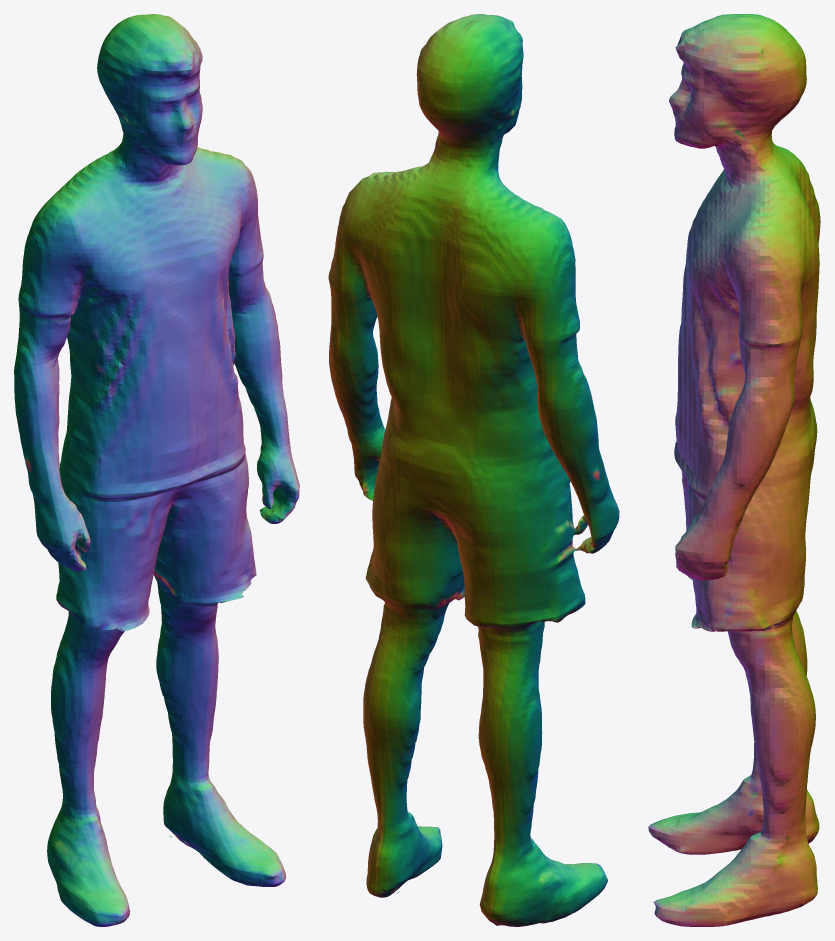
Rendered from result_test_256.obj.
3 views of the same model, side by side, from view 1: azimuth 30°, elevation 25°; view 2: azimuth 150°, elevation 25°; view 3: azimuth 270°, elevation 25° (orthographic).
Bounding box in the file's own units: 0.4865 × 1.58 × 0.2857.
